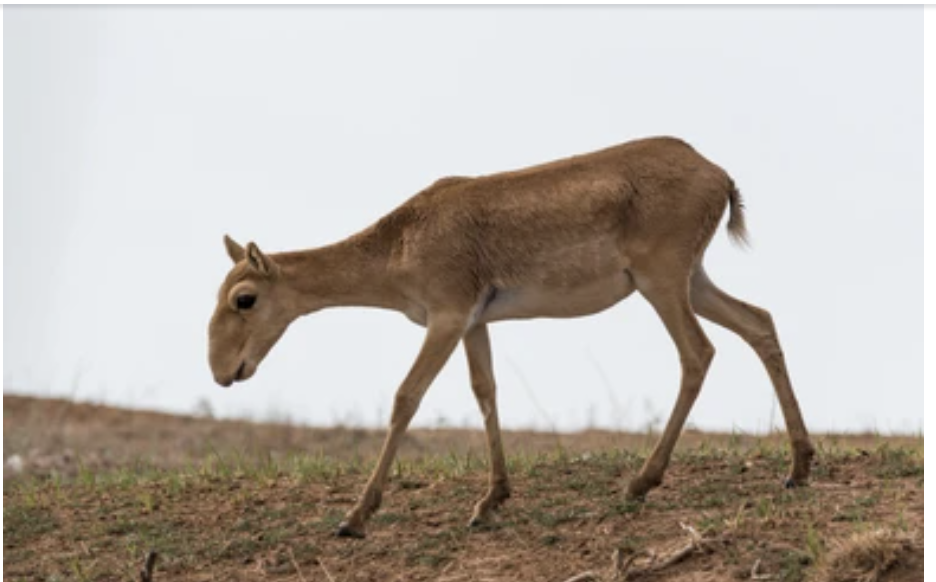saiga: (193, 129, 842, 528)
